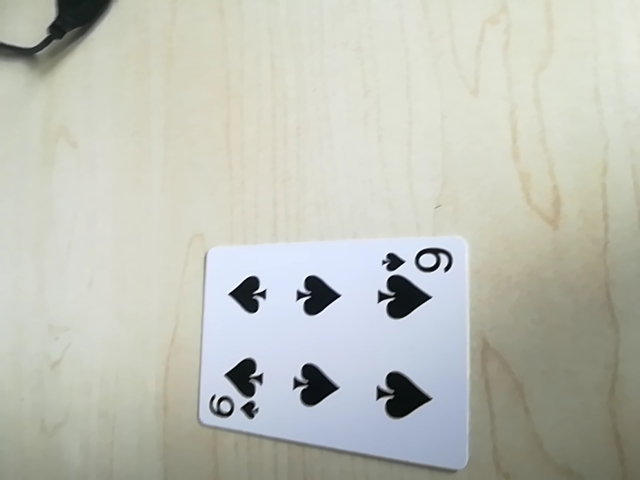ht 6: (379, 243, 459, 278), (203, 392, 263, 425)
